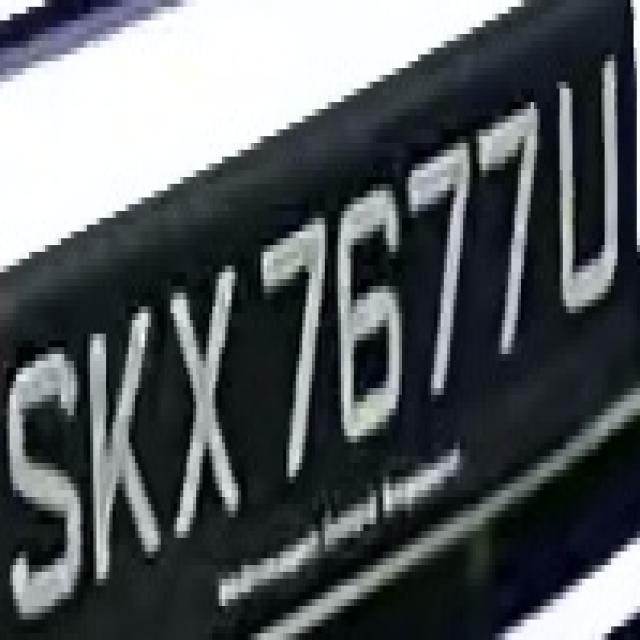6: (325, 177, 408, 470)
7: (392, 122, 476, 408), (251, 211, 331, 483), (476, 116, 547, 388)
K: (80, 286, 158, 599)
S: (12, 320, 84, 613)
U: (544, 48, 627, 334)
X: (154, 252, 244, 565)
